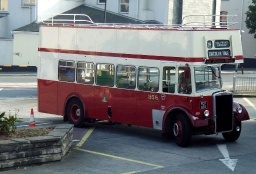bus: (36, 12, 243, 143)
